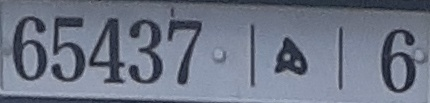3: (128, 17, 164, 86)
4: (87, 16, 128, 84)
5: (51, 15, 88, 85)
6: (10, 15, 51, 83), (378, 27, 419, 94)
7: (164, 17, 204, 86)
h: (269, 35, 312, 81)
